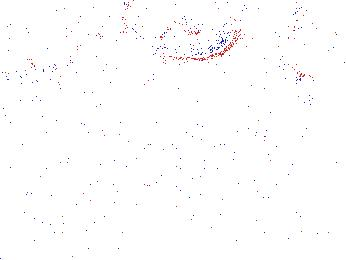moon jellyfish: (122, 1, 241, 60), (275, 1, 346, 81), (28, 1, 112, 68), (99, 1, 153, 87)
